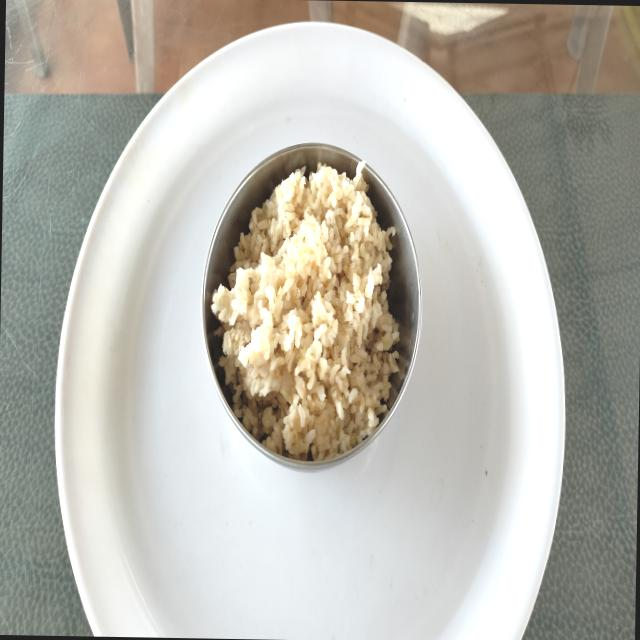brown-rice: (211, 162, 399, 461)
